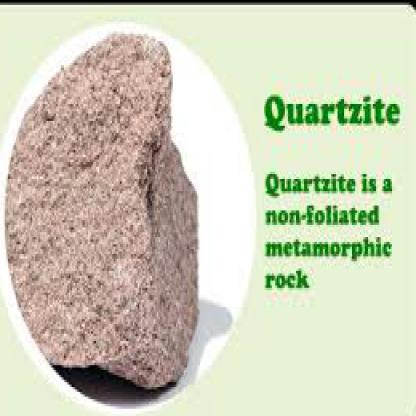Metamorphic_Quartize: (4, 19, 209, 387)
